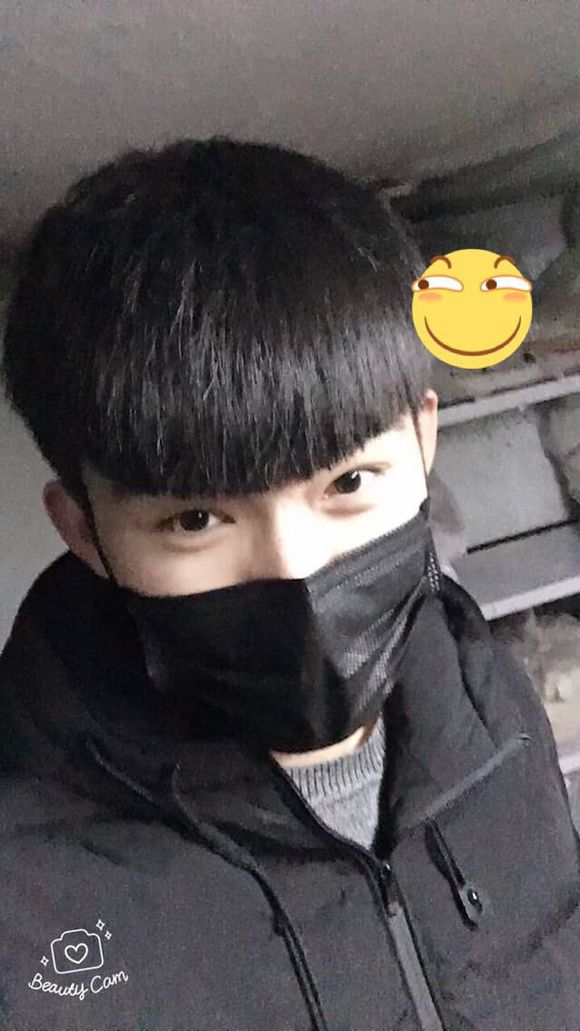mask: (78, 452, 450, 787)
